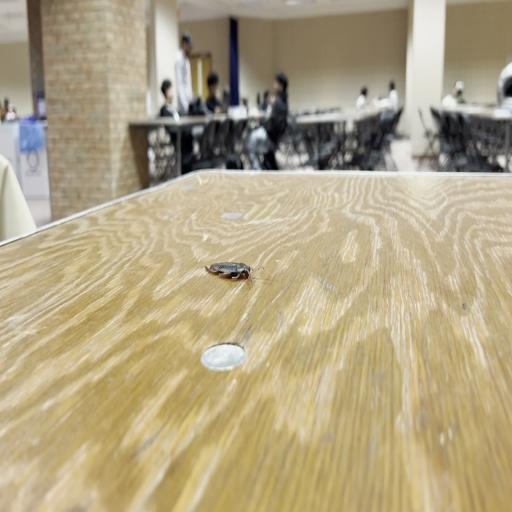cockroach: (205, 261, 254, 284)
